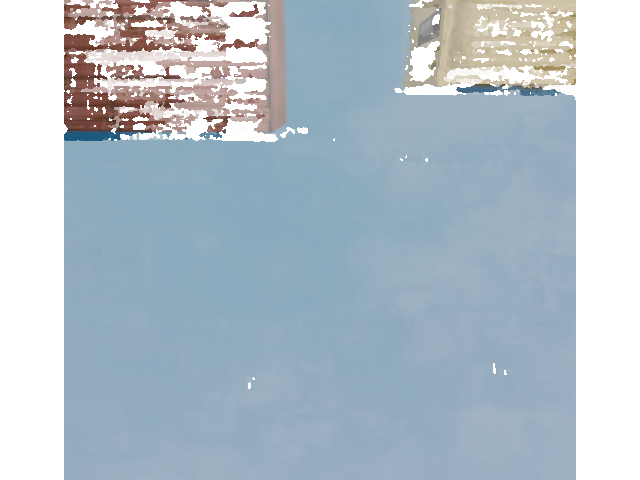container3: (398, 0, 640, 92)
container4: (25, 0, 295, 135)
